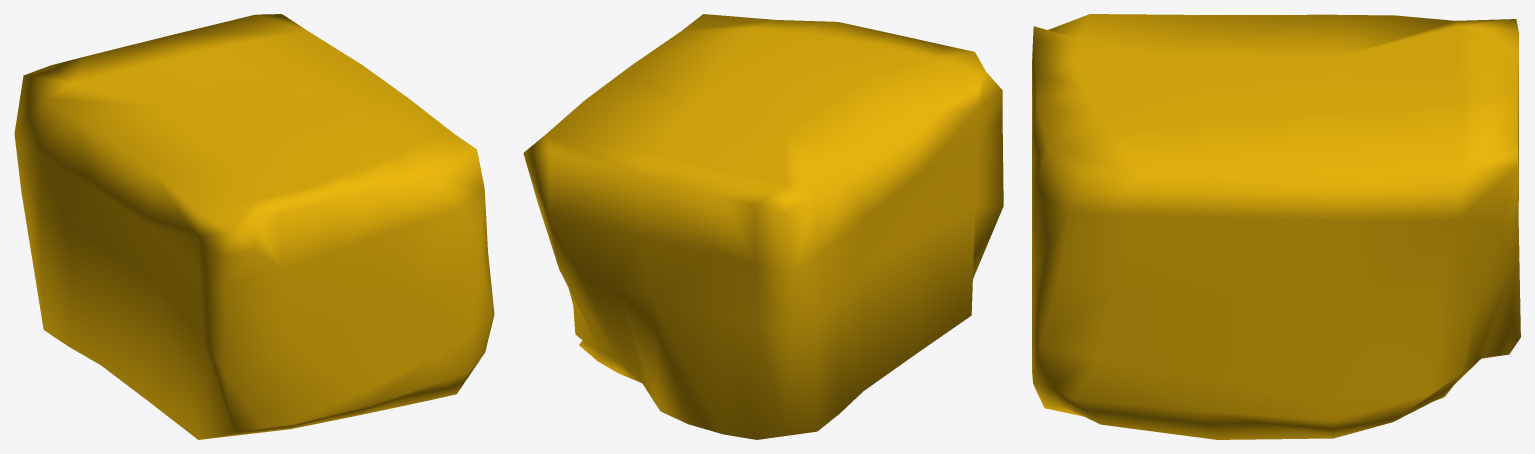
The model's file is Stone_Block_05_Lod0.fbx.
3 renders of one model, left to right at view 1: azimuth 30°, elevation 25°; view 2: azimuth 150°, elevation 25°; view 3: azimuth 270°, elevation 25°, orthographic. The views are drawn at different scales.
Parts seen in each view (by area): view 1: Stone_Block_05_Lod0; view 2: Stone_Block_05_Lod0; view 3: Stone_Block_05_Lod0.
Part boxes in pixels (box(x1,y1,x2,y2)): Stone_Block_05_Lod0: box(14, 14, 494, 439); Stone_Block_05_Lod0: box(523, 14, 1003, 439); Stone_Block_05_Lod0: box(1032, 14, 1520, 439).
Bounding box in the file's own units: 454 × 369 × 593.
